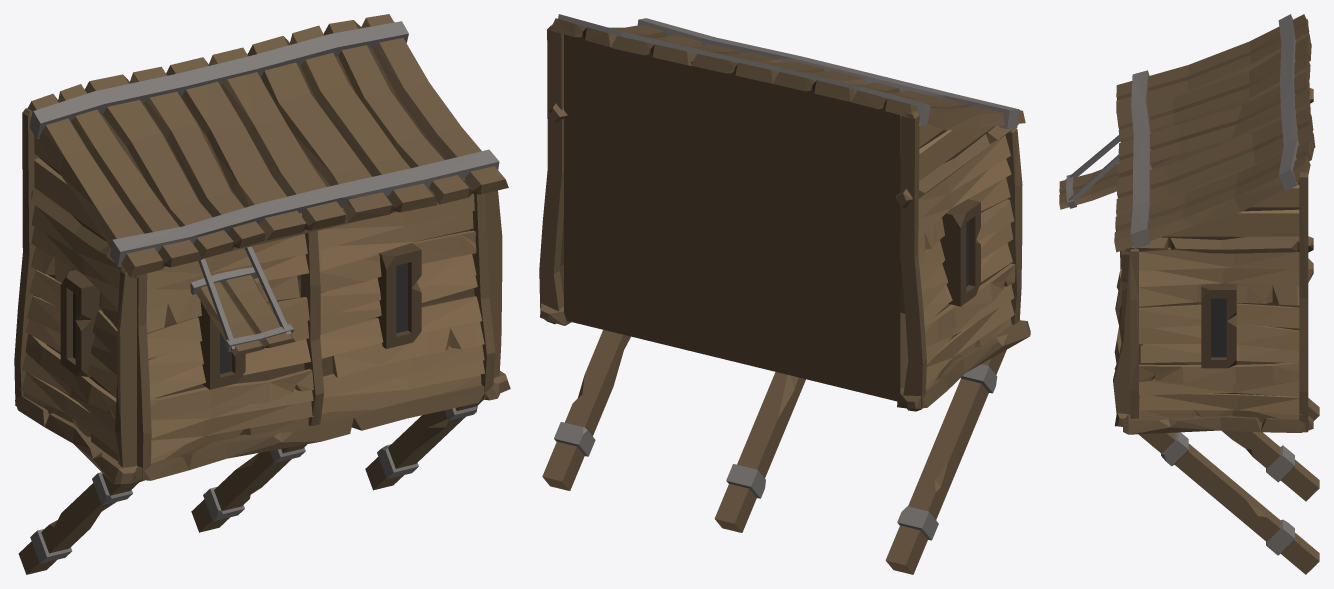
The model's file is SM_Bld_Castle_Wood_Battlement_02.glb.
3 renders of one model, left to right at view 1: azimuth 30°, elevation 25°; view 2: azimuth 150°, elevation 25°; view 3: azimuth 270°, elevation 25°, orthographic. The views are drawn at different scales.
Visible parts, largest first — view 1: SM_Bld_Castle_Wood_Battlement_02; view 2: SM_Bld_Castle_Wood_Battlement_02; view 3: SM_Bld_Castle_Wood_Battlement_02.
Boxes of the visible parts, <box> form: SM_Bld_Castle_Wood_Battlement_02: <box>14,14,510,574</box>; SM_Bld_Castle_Wood_Battlement_02: <box>539,14,1030,574</box>; SM_Bld_Castle_Wood_Battlement_02: <box>1059,14,1319,574</box>.
Bounding box in the file's own units: 3.15 × 3.62 × 2.08.
Materials: 1 (1 with a texture image).
